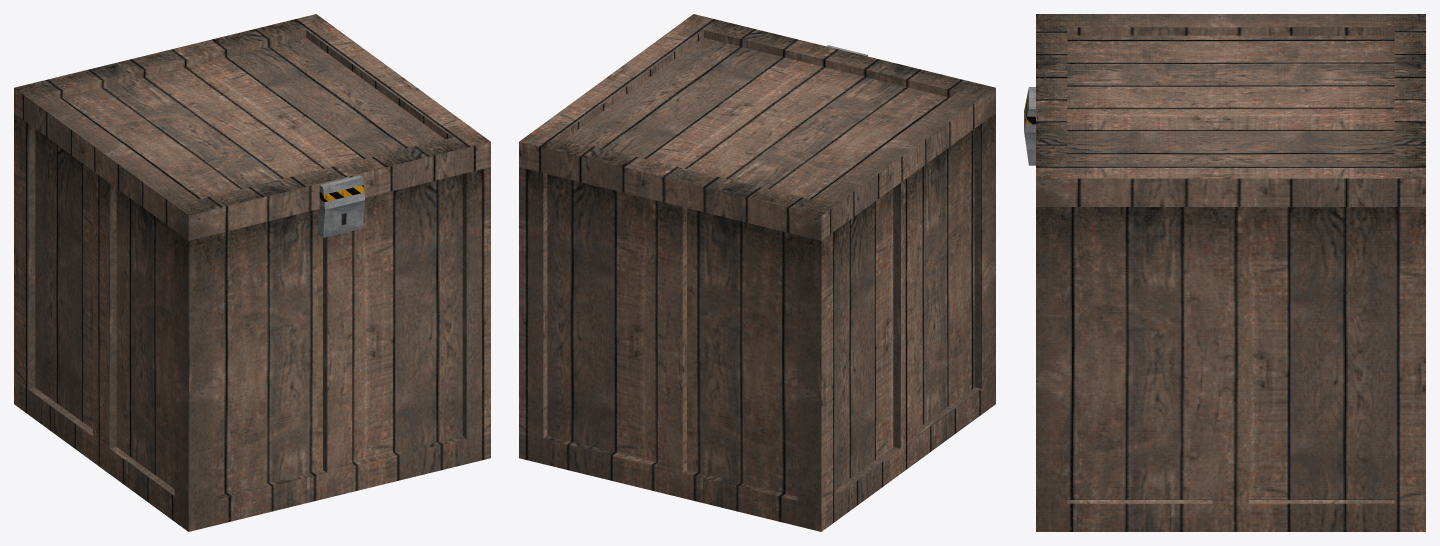
File: Crate.fbx
3 renders of one model, left to right at view 1: azimuth 30°, elevation 25°; view 2: azimuth 150°, elevation 25°; view 3: azimuth 270°, elevation 25°, orthographic. The views are drawn at different scales.
Visible parts, largest first — view 1: Crate, Cube.008; view 2: Crate, Cube.008; view 3: Crate, Cube.008.
Part boxes in pixels (bbox=[...]): Crate: bbox=[14, 113, 490, 531]; Cube.008: bbox=[14, 14, 490, 240]; Crate: bbox=[519, 113, 995, 531]; Cube.008: bbox=[519, 14, 995, 240]; Crate: bbox=[1024, 132, 1425, 531]; Cube.008: bbox=[1024, 14, 1425, 206].
Size of the model in its own units: 184 by 184 by 190.
1 material, 1 textured.
